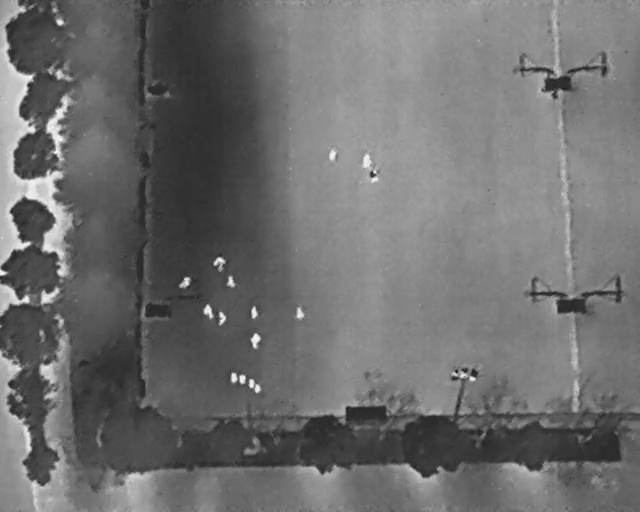Person: (176, 274, 193, 290), (328, 146, 338, 167), (213, 256, 226, 272), (202, 303, 214, 319), (362, 152, 372, 170), (370, 167, 380, 184), (250, 333, 261, 348), (217, 311, 227, 327), (295, 305, 305, 321), (226, 275, 235, 288), (251, 305, 258, 319)
